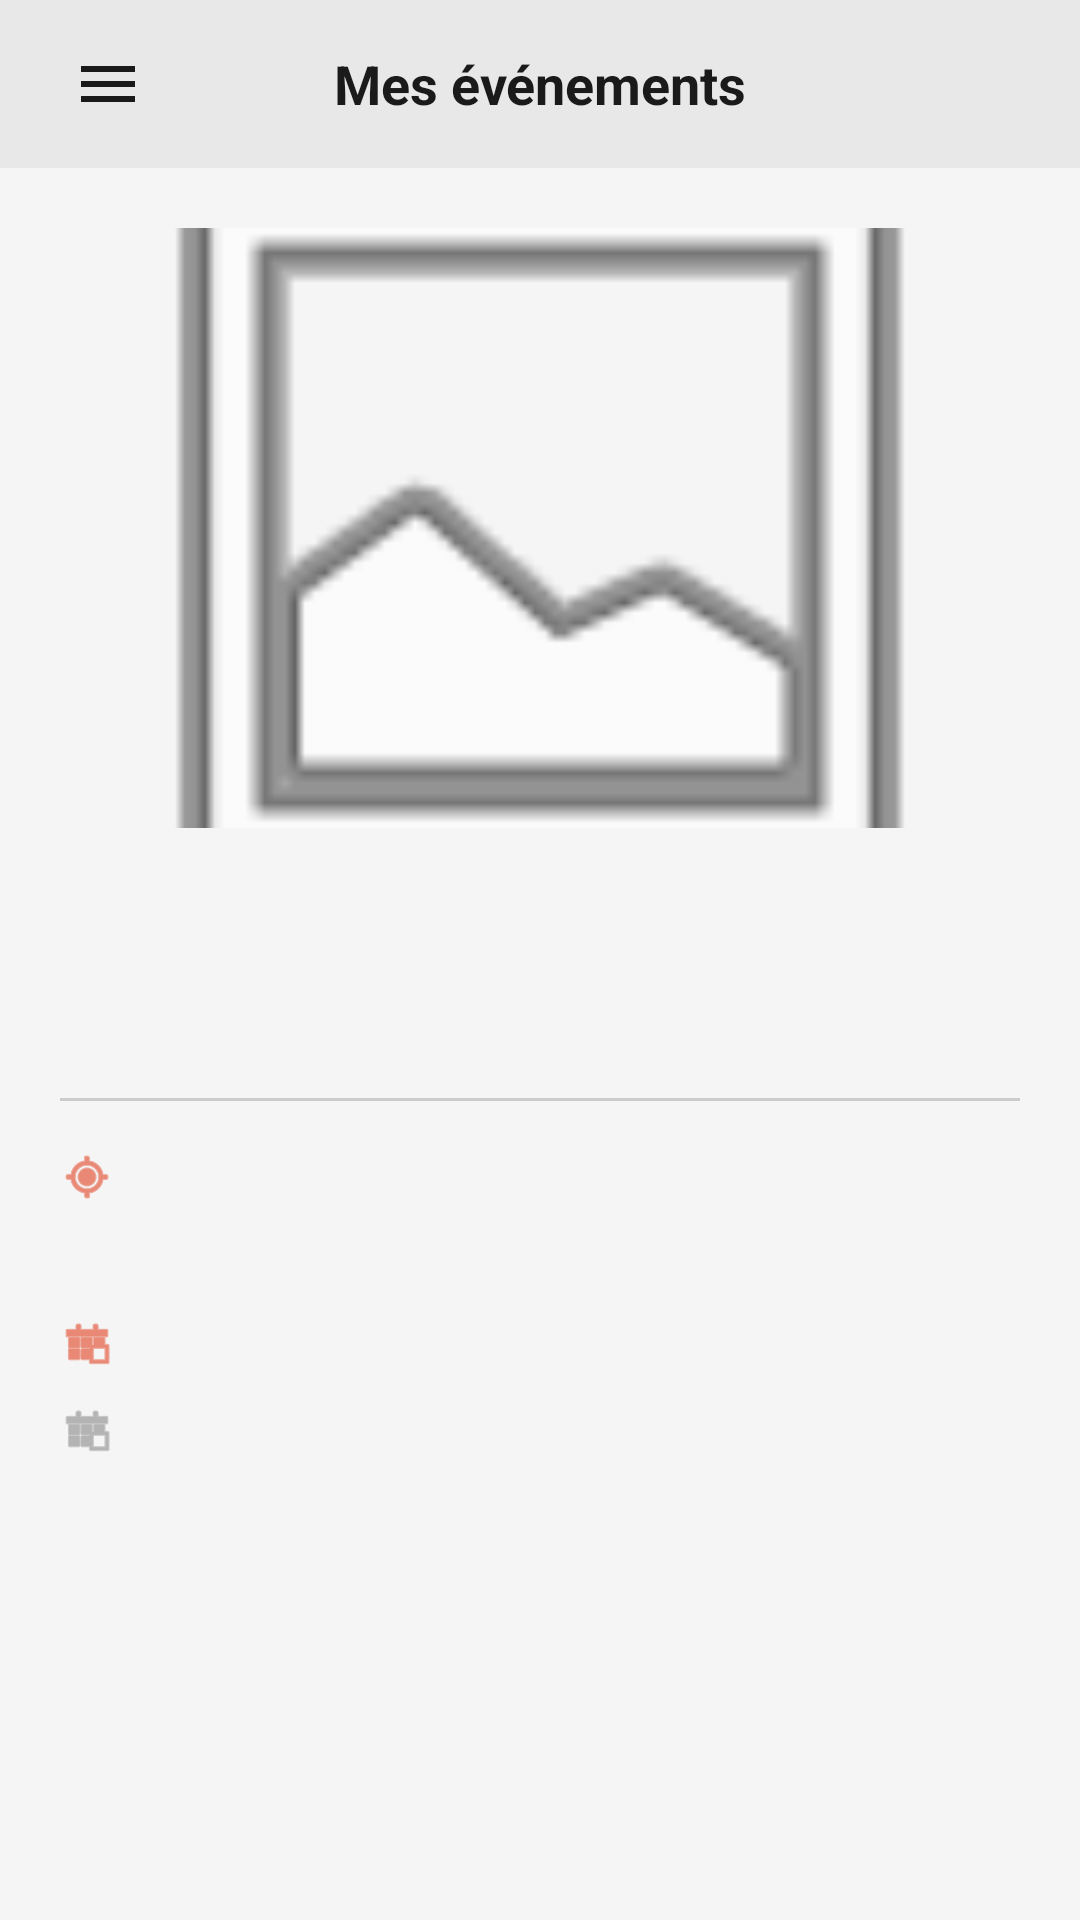

Named icons in this screenshot (1080 x 1920) and their bounding boxes, (x1, y1, x2, y2):
Menu: (81, 66, 135, 102)
mylocation: (65, 1155, 109, 1199)
today: (65, 1323, 110, 1364), (66, 1411, 110, 1451)
